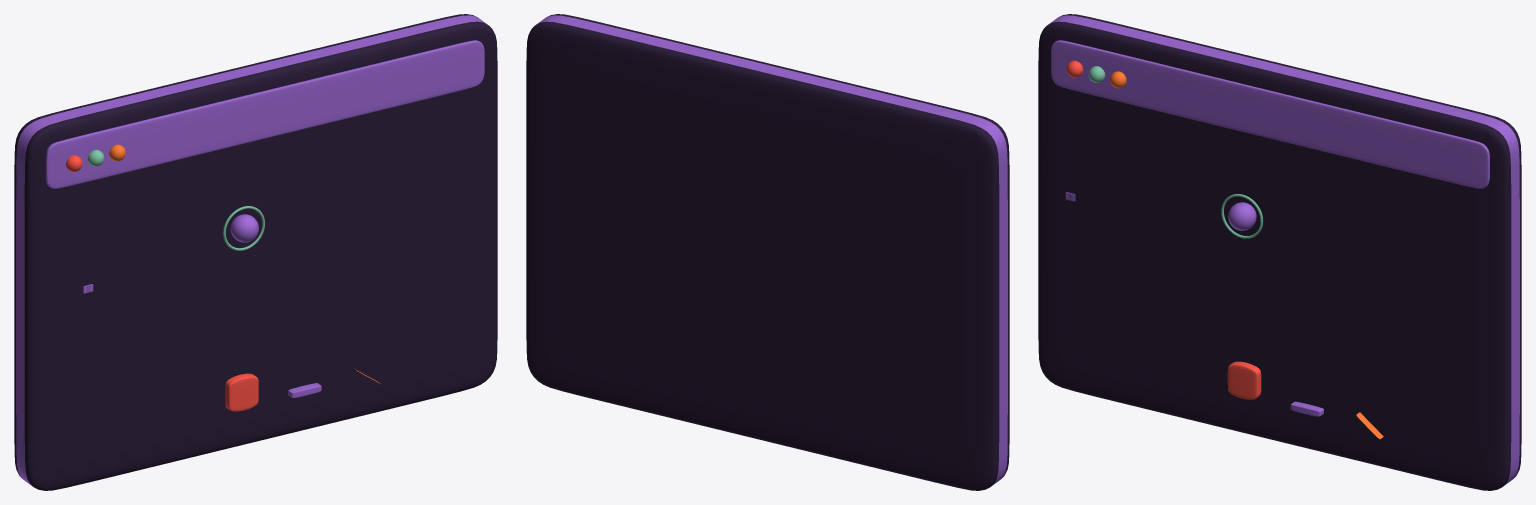
File: market-trends-3d-animated-icon-510873837747.glb
3 renders of one model, left to right at view 1: azimuth 30°, elevation 25°; view 2: azimuth 150°, elevation 25°; view 3: azimuth 330°, elevation 25°, orthographic.
Parts seen in each view (by area): view 1: Cube, Cube.008, Sphere.003; view 2: Cube; view 3: Cube, Cube.008, Sphere.003.
Boxes of the visible parts, x1,y1,x2,y2 form: Cube: (14, 14, 497, 490); Cube.008: (225, 373, 258, 411); Sphere.003: (223, 206, 264, 250); Cube: (526, 14, 1009, 490); Cube: (1038, 14, 1521, 490); Cube.008: (1227, 361, 1261, 399); Sphere.003: (1221, 194, 1263, 238).
Size of what is drawn, in the model's own units: 1.65 by 1.23 by 0.1831.
